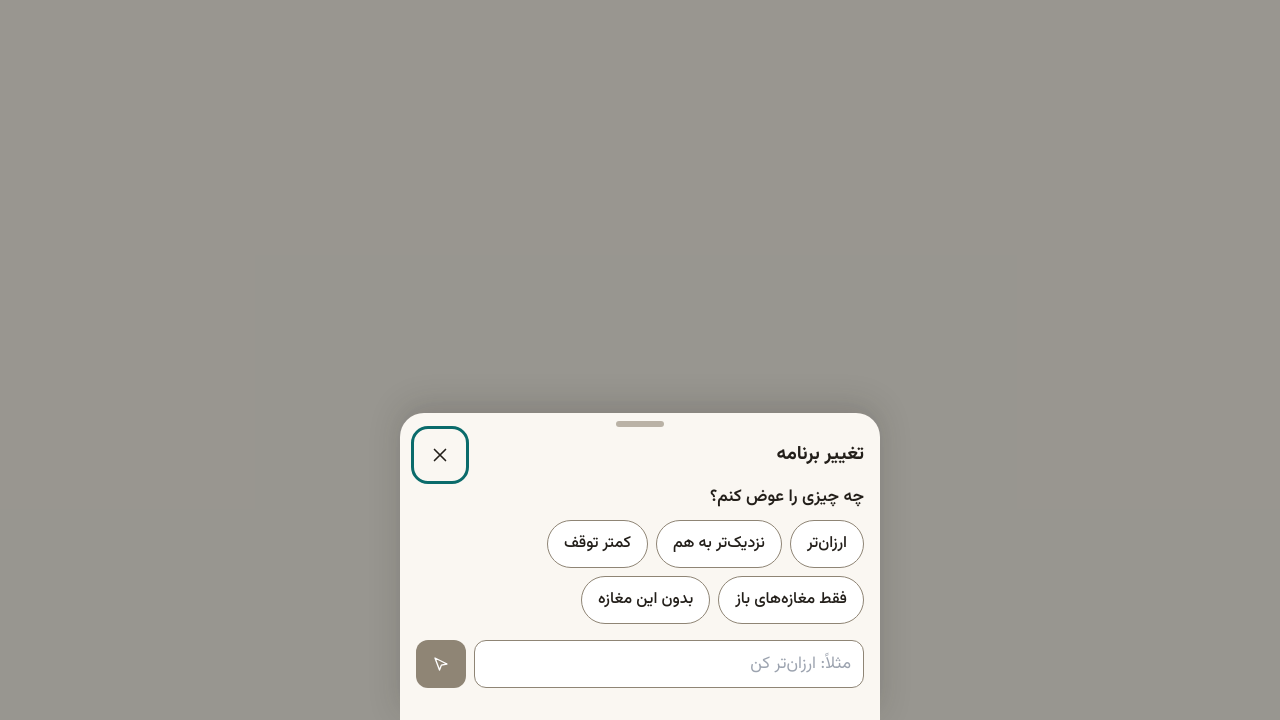
Scenario: assistant sheet: no stale answer › a new request clears the previous answer, even when the new one fails
Click the button "ارزان‌تر". click: {"x": 827, "y": 544}
box: [790,520,864,568]
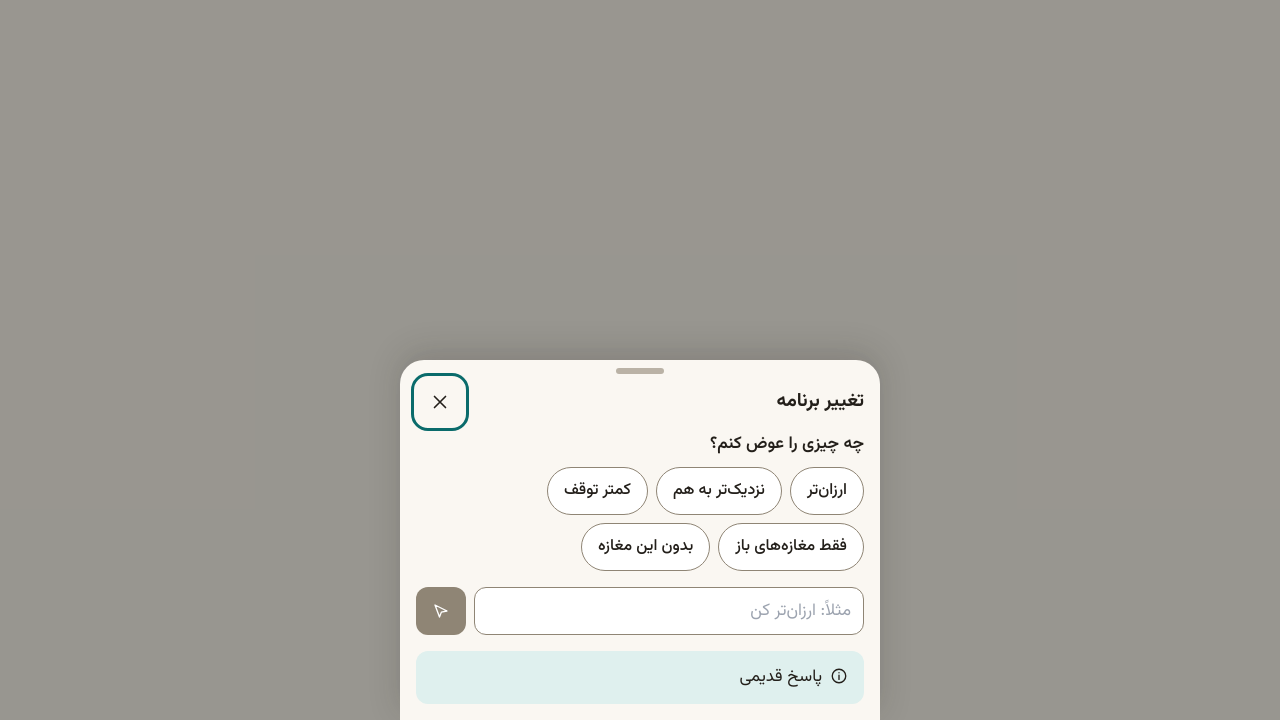
Expected: the element showing "پاسخ قدیمی" is shown, [416,651,864,704]
Click the button "نزدیک‌تر به هم". click: {"x": 719, "y": 491}
box: [656,467,782,515]
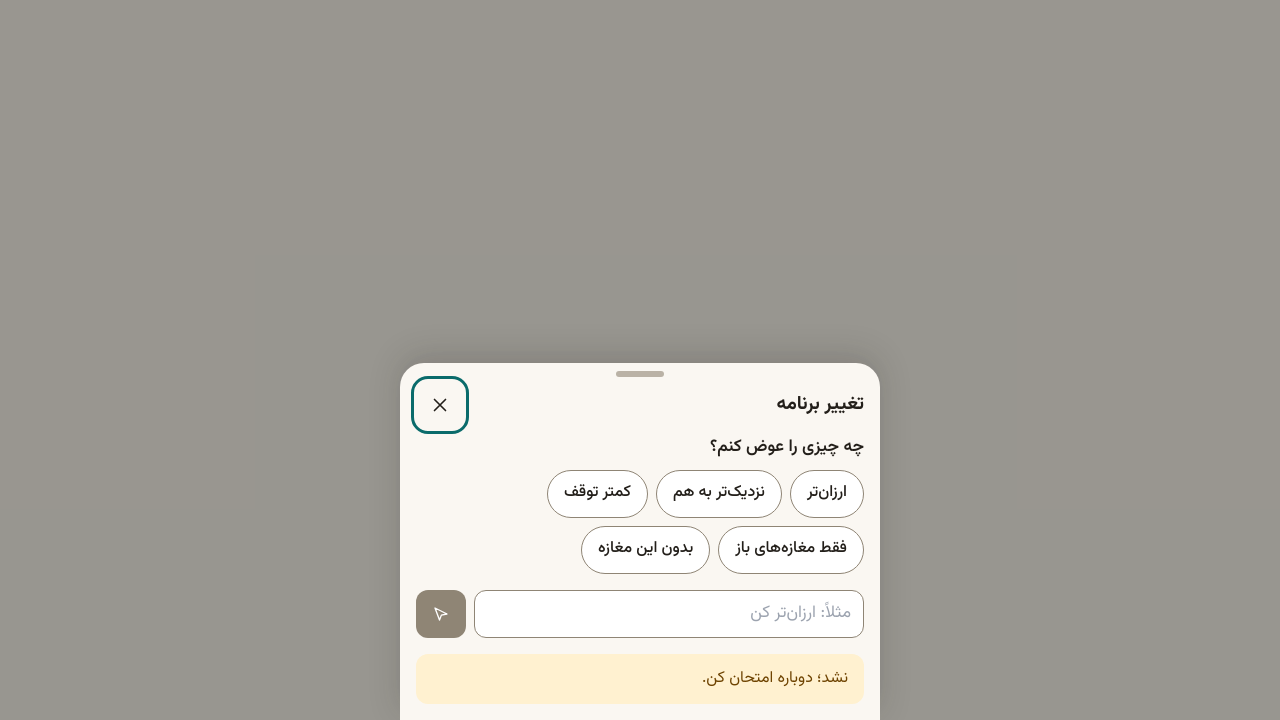
Expected: the text "پاسخ قدیمی" is gone
